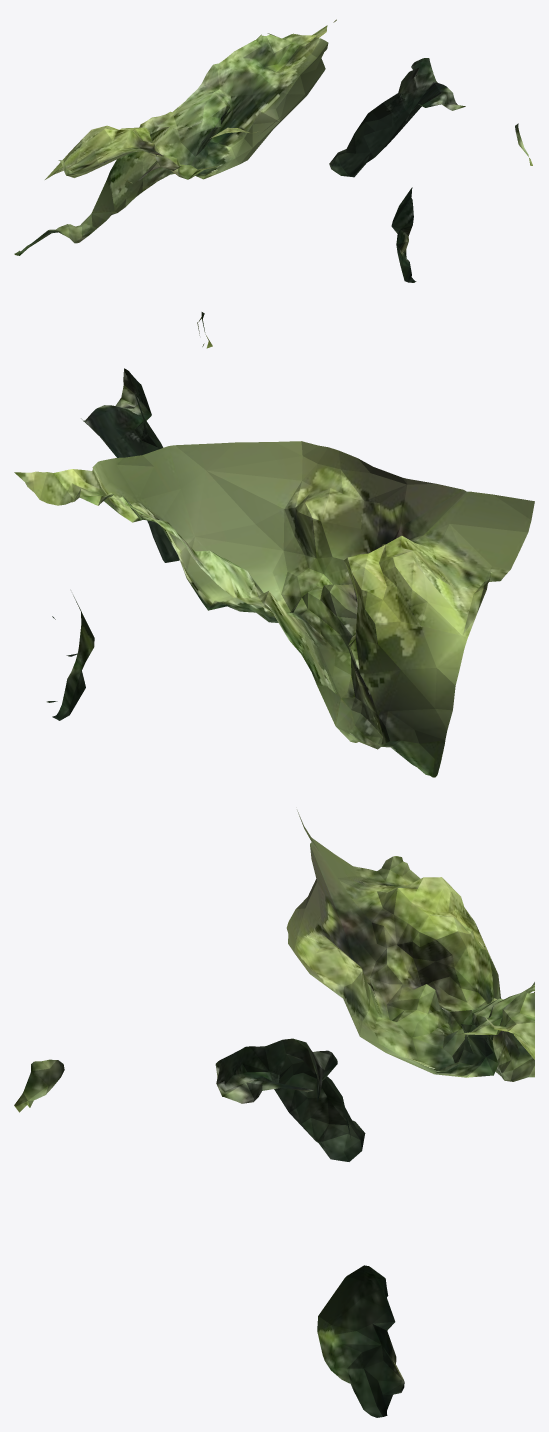
3 views of the same model, one above another, from view 1: azimuth 30°, elevation 25°; view 2: azimuth 150°, elevation 25°; view 3: azimuth 270°, elevation 25° (orthographic). The views are drawn at different scales.
Size of the model in its own units: 26.11 by 16.83 by 22.29.
2 materials, 2 textured.
